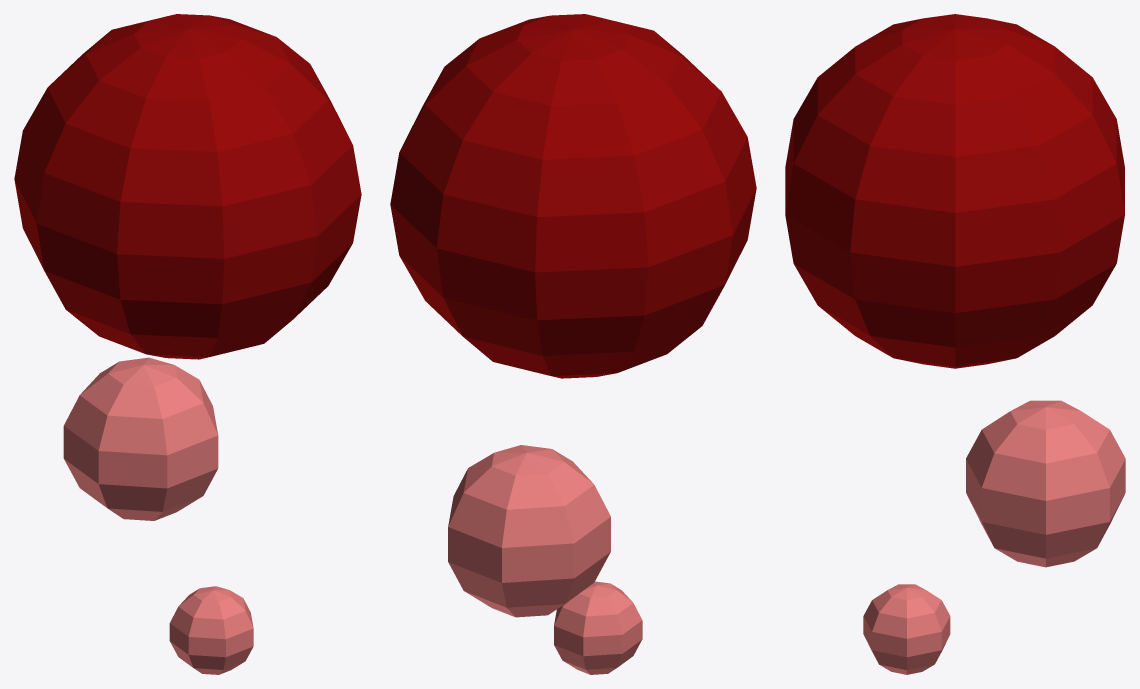
The model's file is ChildAI.fbx.
The picture shows the model from 3 angles, left to right: view 1: azimuth 30°, elevation 25°; view 2: azimuth 150°, elevation 25°; view 3: azimuth 270°, elevation 25°; orthographic projection. The views are drawn at different scales.
Parts seen in each view (by area): view 1: pSphere1, pSphere2, pasted__pSphere2; view 2: pSphere1, pSphere2, pasted__pSphere2; view 3: pSphere1, pSphere2, pasted__pSphere2.
Part boxes in pixels (<box>): pSphere1: <box>14,14,361,359</box>; pSphere2: <box>63,357,218,520</box>; pasted__pSphere2: <box>169,586,253,674</box>; pSphere1: <box>390,14,756,378</box>; pSphere2: <box>448,445,610,617</box>; pasted__pSphere2: <box>554,581,642,674</box>; pSphere1: <box>785,14,1124,368</box>; pSphere2: <box>966,400,1125,567</box>; pasted__pSphere2: <box>863,584,950,674</box>.
Size of the model in its own units: 2 by 3.95 by 1.91.
